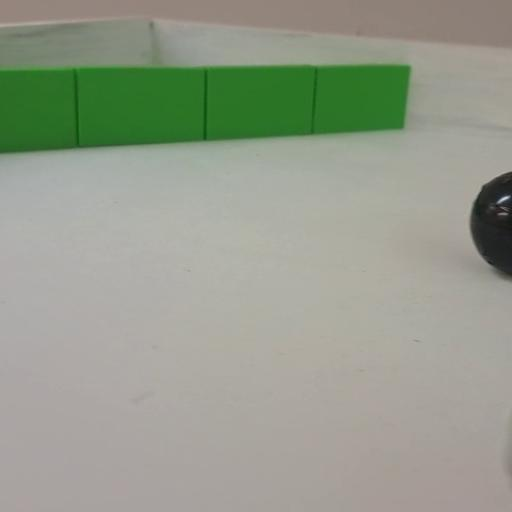dead: (466, 172, 512, 282)
